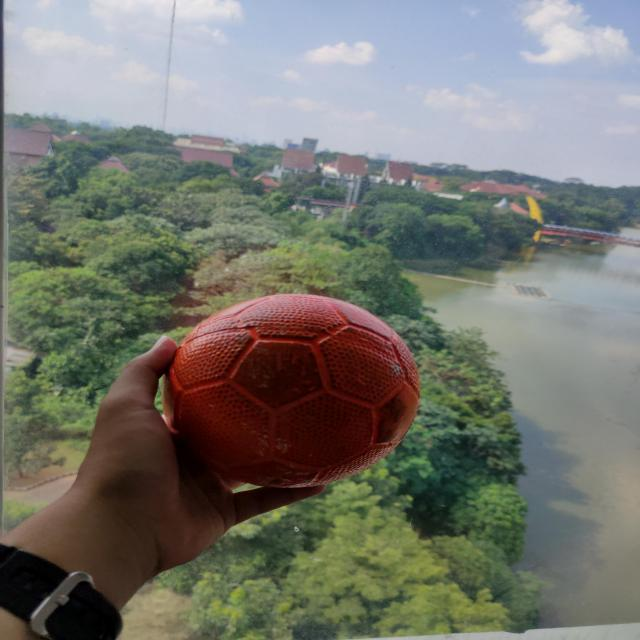bola: (154, 282, 436, 494)
